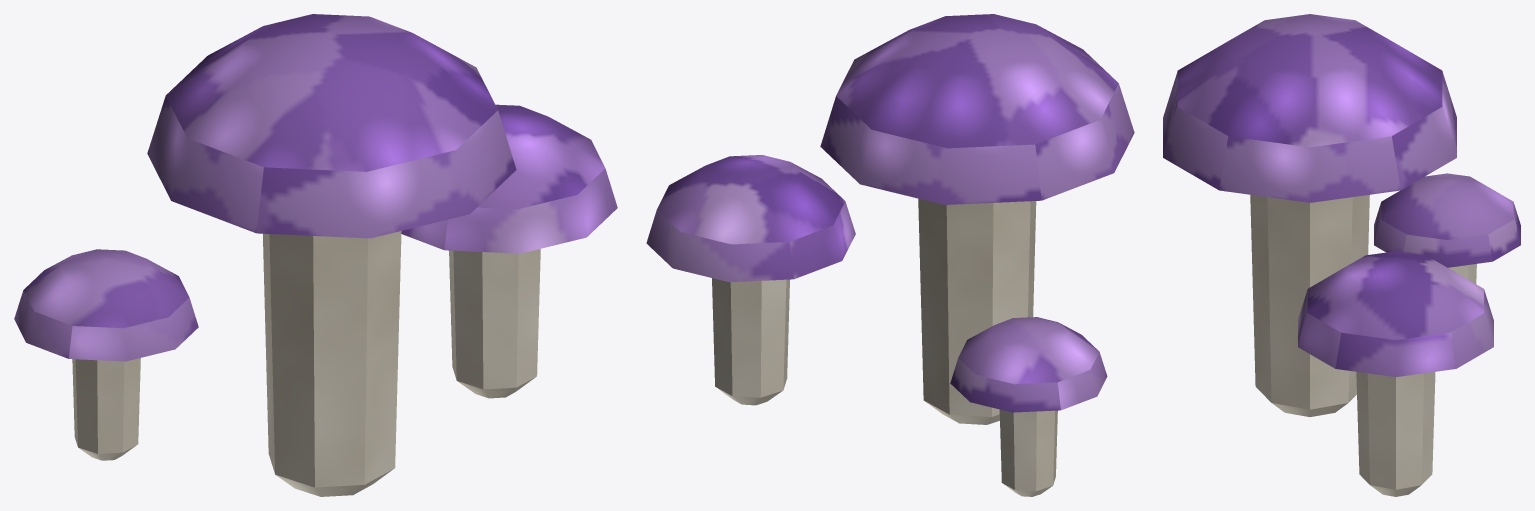
Rendered from mushroom.gltf.
The picture shows the model from 3 angles, left to right: view 1: azimuth 30°, elevation 25°; view 2: azimuth 150°, elevation 25°; view 3: azimuth 270°, elevation 25°; orthographic projection. The views are drawn at different scales.
Parts seen in each view (by area): view 1: mushroom_mesh; view 2: mushroom_mesh; view 3: mushroom_mesh.
Part boxes in pixels (left/top/right/bottom): mushroom_mesh: left=14, top=14, right=617, bottom=496; mushroom_mesh: left=646, top=14, right=1134, bottom=496; mushroom_mesh: left=1163, top=14, right=1520, bottom=496.
Size of the model in its own units: 0.305 by 0.2375 by 0.2084.
2 materials, 2 textured.
